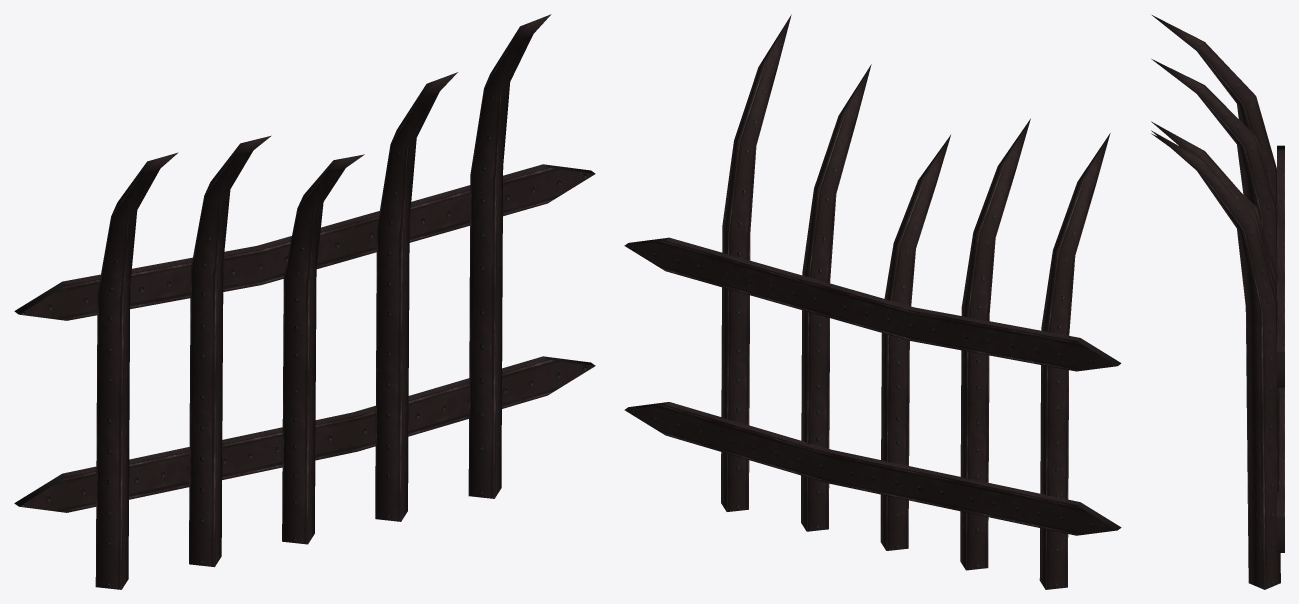
File: lava_metal004.FBX
3 views of the same model, side by side, from view 1: azimuth 30°, elevation 25°; view 2: azimuth 150°, elevation 25°; view 3: azimuth 270°, elevation 25° (orthographic). The views are drawn at different scales.
Visible parts, largest first — view 1: lava_metal004; view 2: lava_metal004; view 3: lava_metal004.
Part boxes in pixels (box(x1,y1,x2,y2)): lava_metal004: box(14, 14, 595, 589); lava_metal004: box(624, 14, 1121, 589); lava_metal004: box(1151, 15, 1284, 589).
Size of the model in its own units: 470 by 410 by 110.
